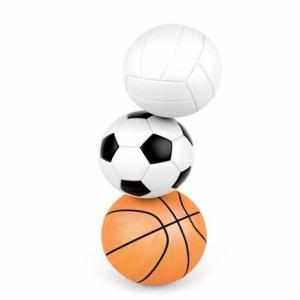Basket: (101, 187, 207, 286)
Football: (100, 111, 196, 200)
Volley: (122, 23, 224, 120)
